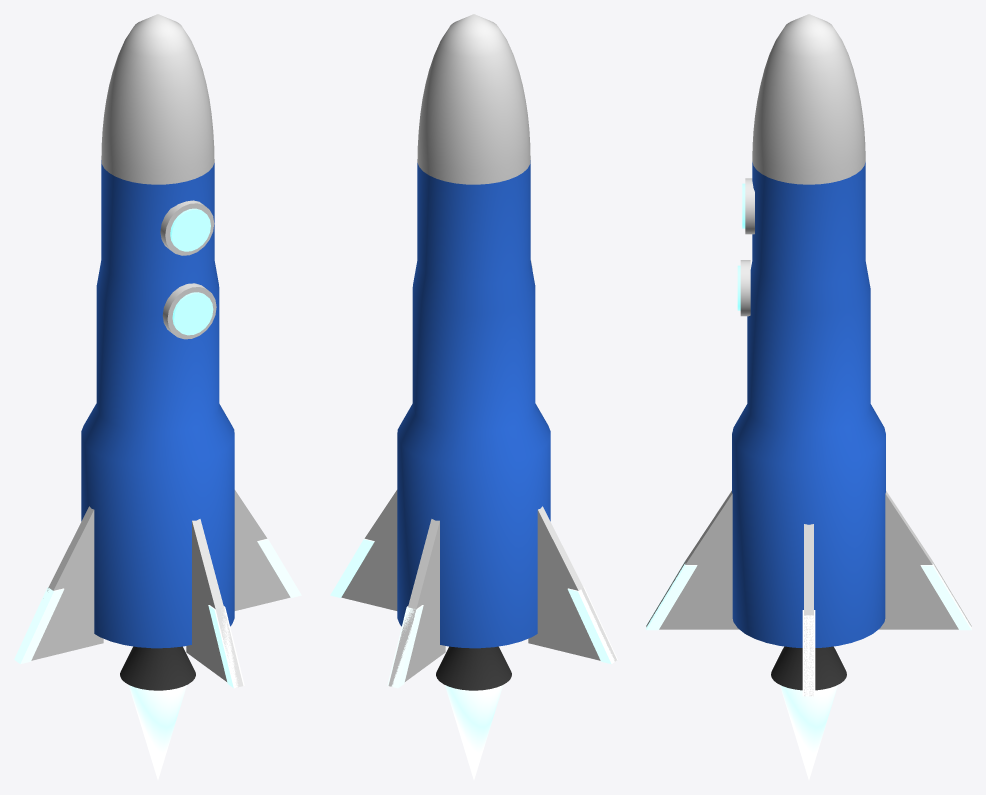
Rendered from Rocket_19_CobaltTower.fbx.
3 views of the same model, side by side, from view 1: azimuth 30°, elevation 25°; view 2: azimuth 150°, elevation 25°; view 3: azimuth 270°, elevation 25° (orthographic).
Parts seen in each view (by area): view 1: R19_Body, R19_Nose, R19_Fin_2, R19_Fin_3, R19_Fin_4, R19_Nozzle_1, R19_Flame_1, R19_Window_1, R19_Window_2, R19_FinGlow_2, R19_FinGlow_3, R19_WindowFrame_2 (+2 smaller); view 2: R19_Body, R19_Nose, R19_Fin_2, R19_Fin_1, R19_Fin_4, R19_Nozzle_1, R19_Flame_1, R19_FinGlow_2, R19_FinGlow_1, R19_FinGlow_4; view 3: R19_Body, R19_Nose, R19_Fin_1, R19_Fin_3, R19_Flame_1, R19_Nozzle_1, R19_Fin_4, R19_FinGlow_4, R19_FinGlow_1, R19_FinGlow_3, R19_WindowFrame_2.
Boxes of the visible parts, x1,y1,x2,y2 form: R19_Body: [81, 160, 234, 648]; R19_Nose: [101, 14, 214, 184]; R19_Fin_2: [31, 506, 103, 660]; R19_Fin_3: [186, 519, 243, 687]; R19_Fin_4: [234, 490, 290, 610]; R19_Nozzle_1: [120, 646, 195, 690]; R19_Flame_1: [128, 685, 186, 779]; R19_Window_1: [170, 208, 210, 251]; R19_Window_2: [172, 292, 213, 335]; R19_FinGlow_2: [14, 586, 64, 663]; R19_FinGlow_3: [208, 605, 244, 688]; R19_WindowFrame_2: [162, 283, 216, 339]; R19_Body: [397, 160, 550, 648]; R19_Nose: [417, 14, 530, 184]; R19_Fin_2: [528, 506, 616, 661]; R19_Fin_1: [388, 519, 445, 686]; R19_Fin_4: [341, 490, 397, 610]; R19_Nozzle_1: [436, 646, 511, 690]; R19_Flame_1: [445, 685, 503, 779]; R19_FinGlow_2: [567, 586, 617, 663]; R19_FinGlow_1: [387, 605, 423, 688]; R19_FinGlow_4: [330, 538, 374, 597]; R19_Body: [732, 162, 885, 647]; R19_Nose: [752, 14, 865, 184]; R19_Fin_1: [879, 491, 971, 629]; R19_Fin_3: [646, 491, 738, 629]; R19_Flame_1: [780, 685, 837, 779]; R19_Nozzle_1: [771, 646, 846, 690]; R19_Fin_4: [804, 524, 813, 695]; R19_FinGlow_4: [802, 610, 815, 696]; R19_FinGlow_1: [920, 560, 971, 630]; R19_FinGlow_3: [646, 560, 697, 630]; R19_WindowFrame_2: [740, 260, 750, 316].
Size of the model in its own units: 4.01 by 10.45 by 4.01.
